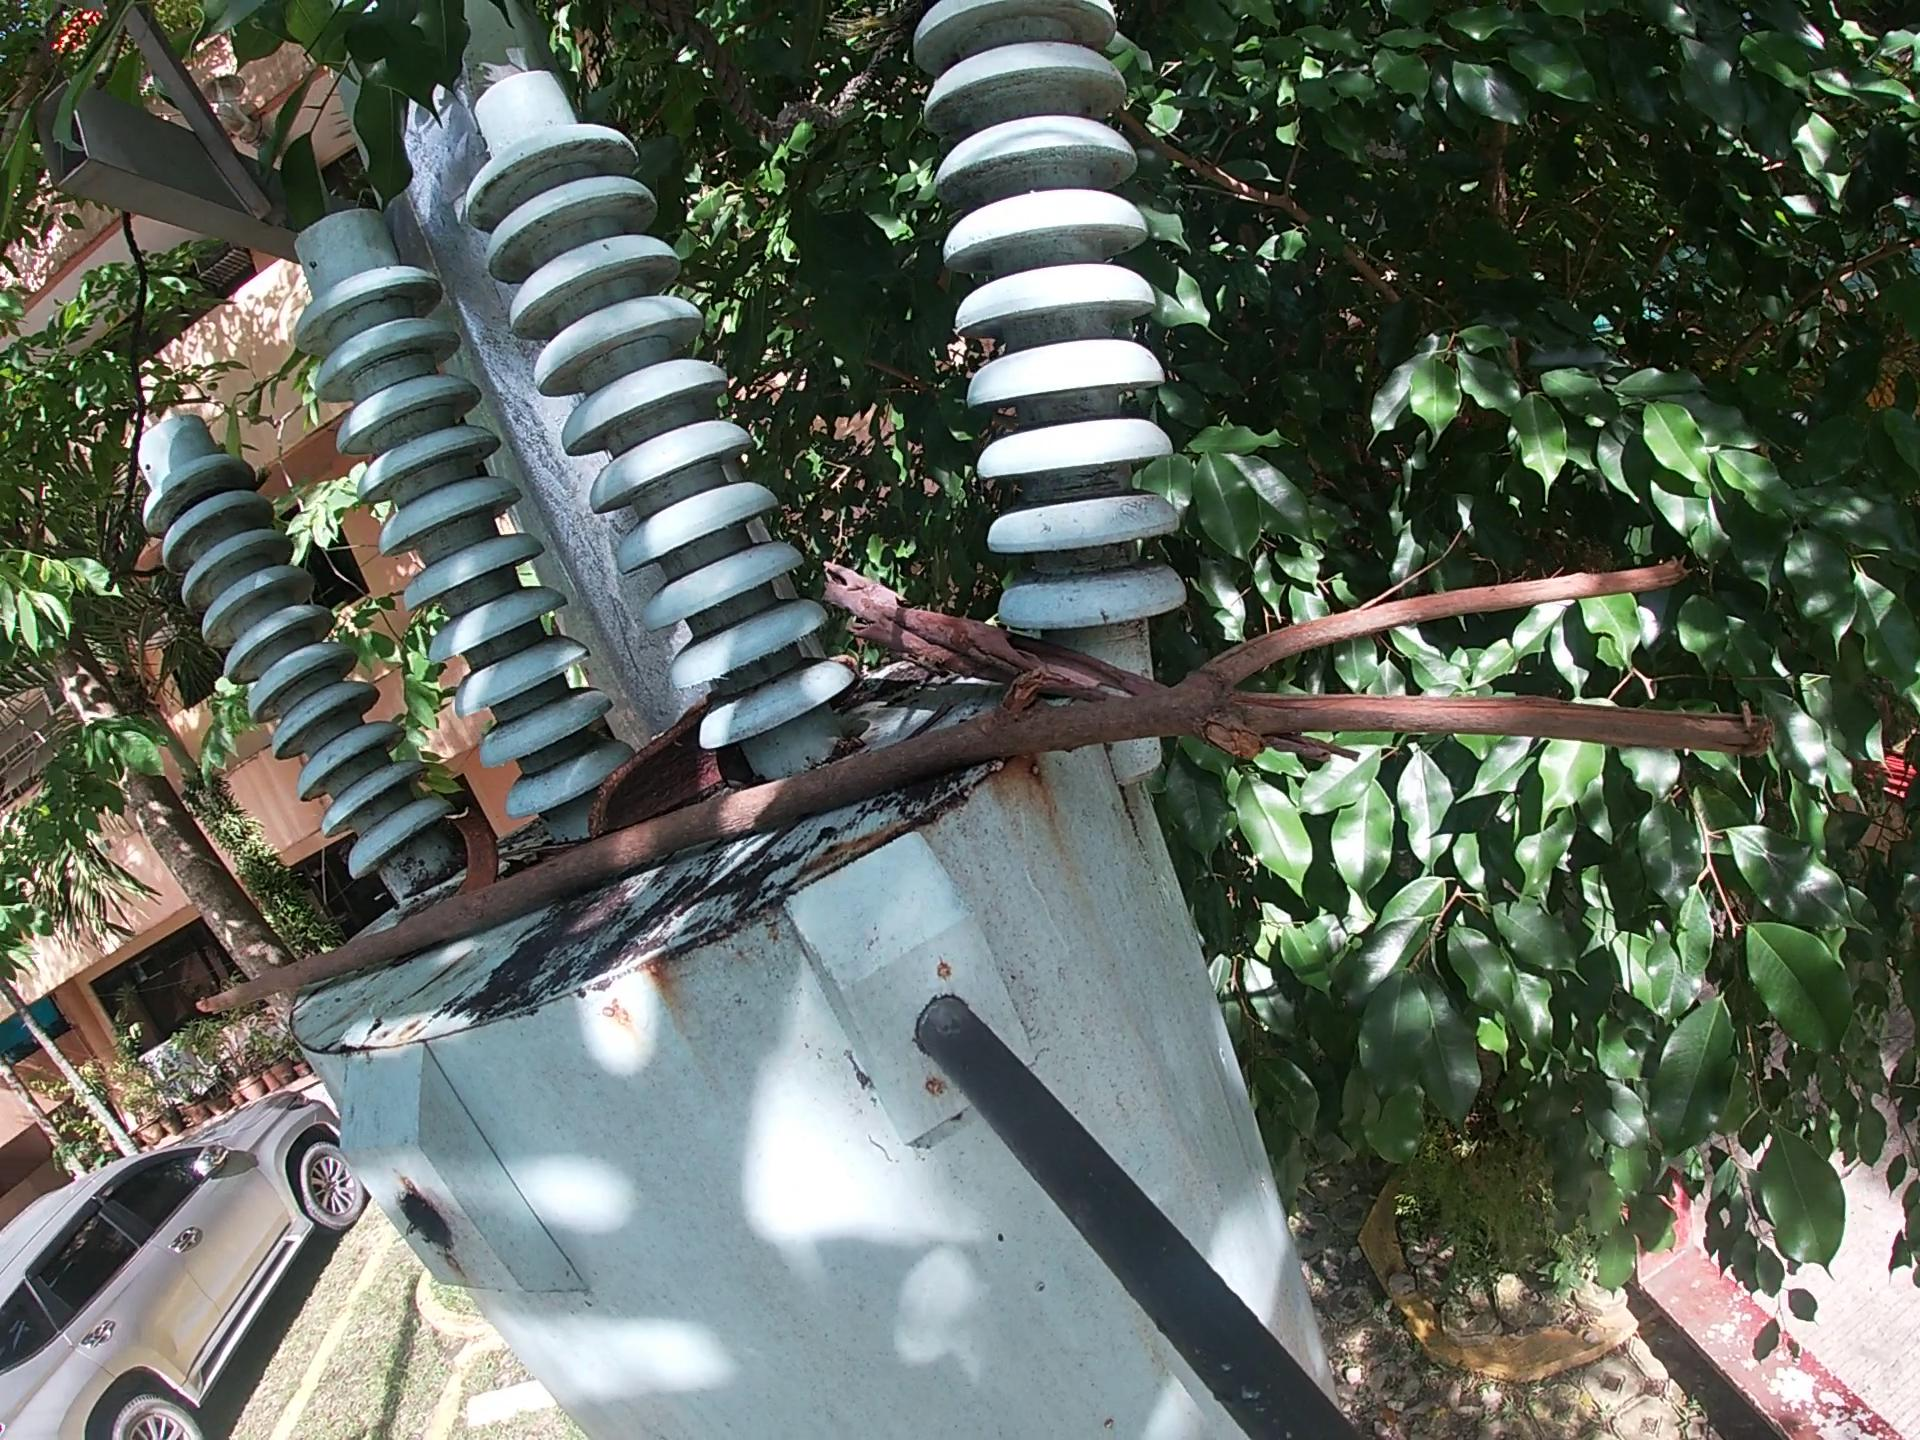mahogany fruit: (581, 690, 732, 850), (435, 805, 505, 905)
tree branch: (189, 545, 1785, 1030), (813, 548, 1371, 779)
